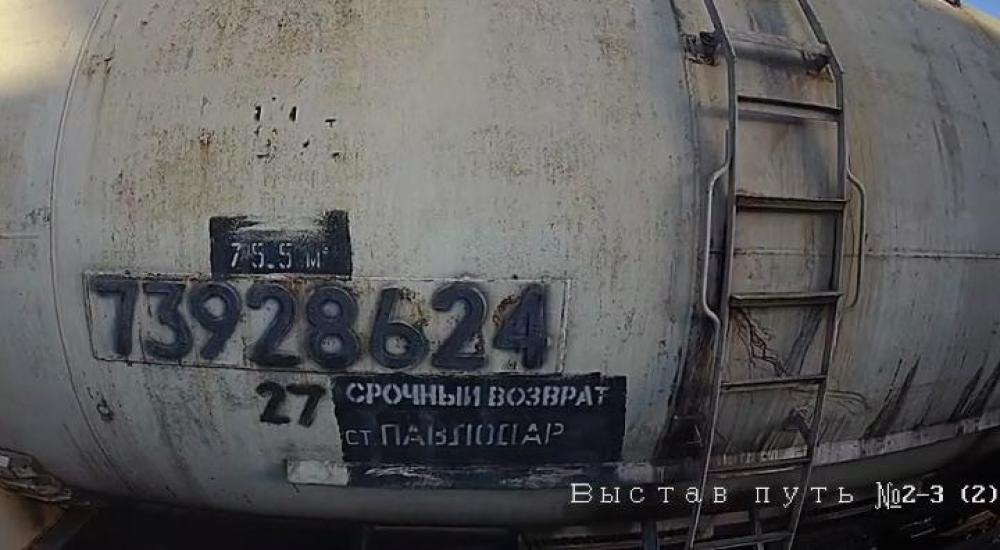Wagon-number: (90, 270, 559, 374)
